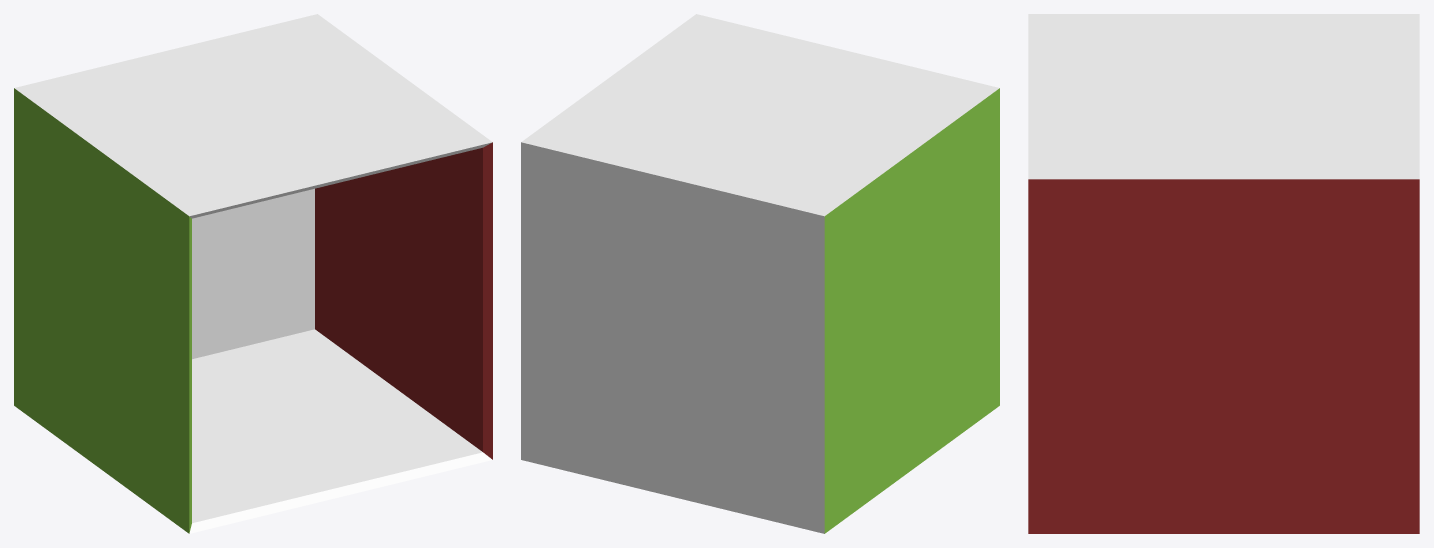
File: cornellBox.obj
3 views of the same model, side by side, from view 1: azimuth 30°, elevation 25°; view 2: azimuth 150°, elevation 25°; view 3: azimuth 270°, elevation 25° (orthographic). The views are drawn at different scales.
Visible parts, largest first — view 1: Cube_Cube.001; view 2: Cube_Cube.001; view 3: Cube_Cube.001.
Part boxes in pixels (left/top/right/bottom): Cube_Cube.001: left=14, top=14, right=492, bottom=533; Cube_Cube.001: left=521, top=14, right=999, bottom=533; Cube_Cube.001: left=1028, top=14, right=1419, bottom=533.
Bounding box in the file's own units: 8.34 × 8.34 × 8.34.
